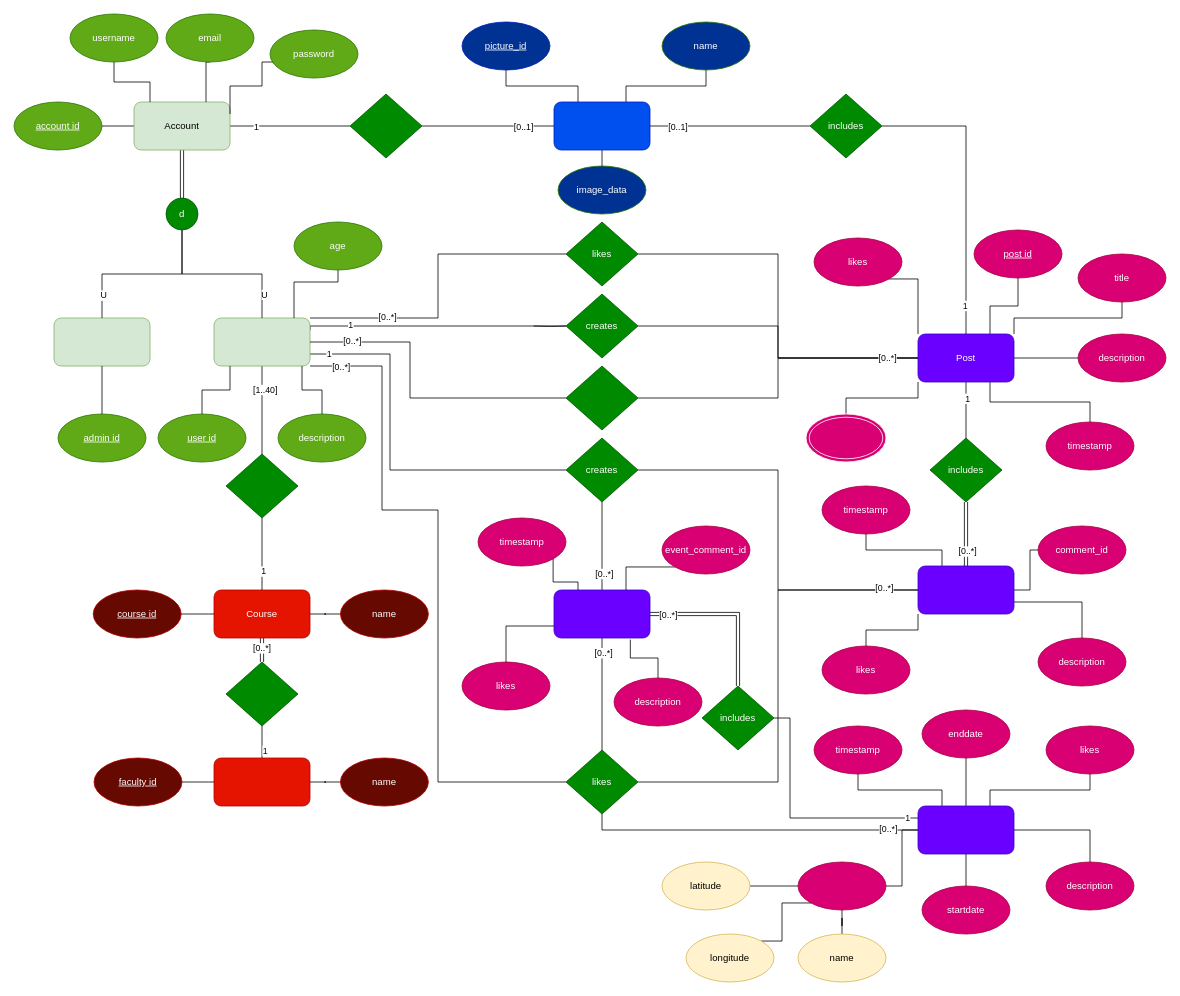
This 1180x996 diagram has some shape labels left out. The centre of each missing label's shape, as x and y in pixels:
Administrator: the point at 101,341
Client User: the point at 261,341
Comment: the point at 965,589
contains: the point at 385,125
EventComment: the point at 601,613
EventPost: the point at 965,829
Faculty: the point at 261,781
is located in: the point at 261,693
location: the point at 841,885
Picture: the point at 601,125
saves: the point at 601,397
studies in: the point at 261,485
tags: the point at 845,437
